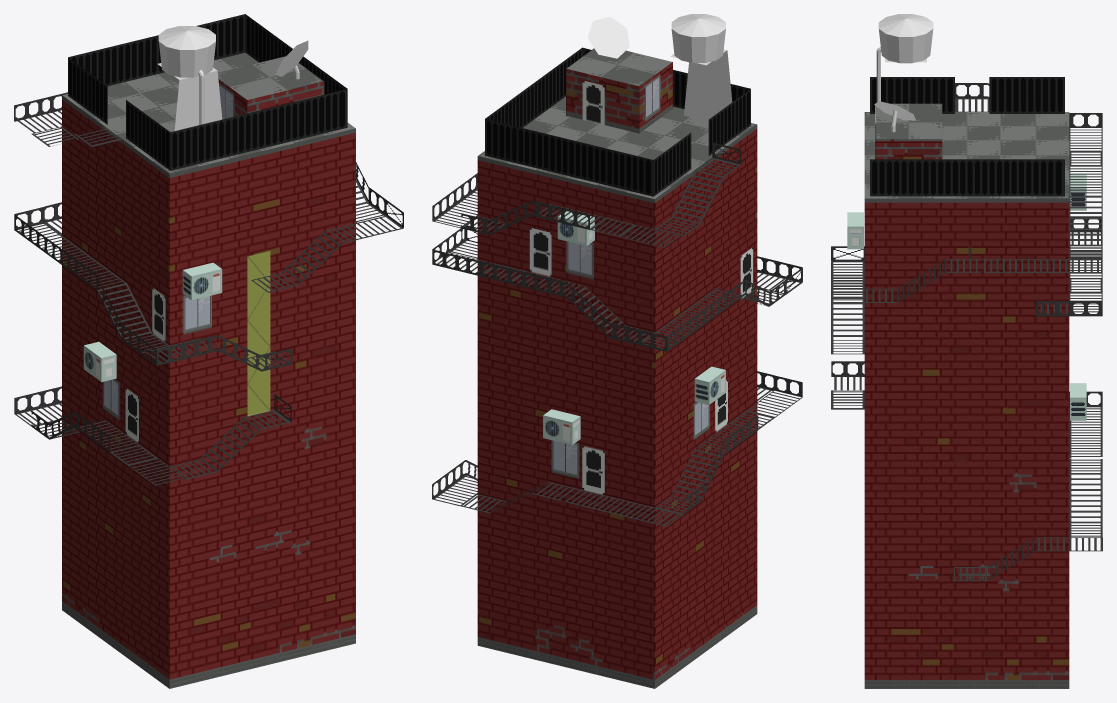
File: Predio_US.fbx
3 renders of one model, left to right at view 1: azimuth 30°, elevation 25°; view 2: azimuth 150°, elevation 25°; view 3: azimuth 270°, elevation 25°, orthographic. The views are drawn at different scales.
Visible parts, largest first — view 1: building, Grade terraco, Escadas_5_Plane.004, Escadas_5_Plane.003, Cube_Cube.002, Escadas_5_Plane.005, Plane_Plane.006, cylinder, plane, AirCon, AirCon_3; view 2: building, Grade terraco, Cube_Cube.002, Escadas_5_Plane.004, Escadas_5_Plane.003, Escadas_5_Plane.005, plane, cylinder, circle, AirCon_2, AirCon_3, AirCon_1; view 3: building, Grade terraco, Escadas_5_Plane.005, Escadas_5_Plane.003, Escadas_5_Plane.004, Cube_Cube.002, cylinder, AirCon, AirCon_2, AirCon_1.
Part boxes in pixels (x1,y1,x2,y2): building: (62,52,355,688); Grade terraco: (68,14,347,170); Escadas_5_Plane.004: (14,202,292,371); Escadas_5_Plane.003: (14,386,291,486); Cube_Cube.002: (218,56,324,119); Escadas_5_Plane.005: (14,92,403,292); Plane_Plane.006: (247,251,270,416); cylinder: (158,26,215,77); plane: (174,71,222,130); AirCon: (182,262,222,300); AirCon_3: (83,341,116,382); building: (477,96,757,688); Grade terraco: (485,47,750,196); Cube_Cube.002: (566,48,672,133); Escadas_5_Plane.004: (432,225,802,351); Escadas_5_Plane.003: (432,371,802,526); Escadas_5_Plane.005: (432,142,741,248); plane: (684,50,732,121); cylinder: (671,14,725,62); circle: (587,17,629,58); AirCon_2: (543,409,580,444); AirCon_3: (694,366,725,404); AirCon_1: (557,211,594,246); building: (864,112,1069,688); Grade terraco: (870,77,1064,196); Escadas_5_Plane.005: (831,83,1102,302); Escadas_5_Plane.003: (831,361,1102,581); Escadas_5_Plane.004: (831,216,1102,354); Cube_Cube.002: (875,103,942,159); cylinder: (878,14,933,63); AirCon: (847,212,863,249); AirCon_2: (1070,383,1086,420); AirCon_1: (1070,174,1086,210).
Size of the model in its own units: 808 by 1977 by 808.
Materials: 4 (4 with a texture image).
